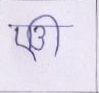i_matra: (43, 13, 64, 57)
